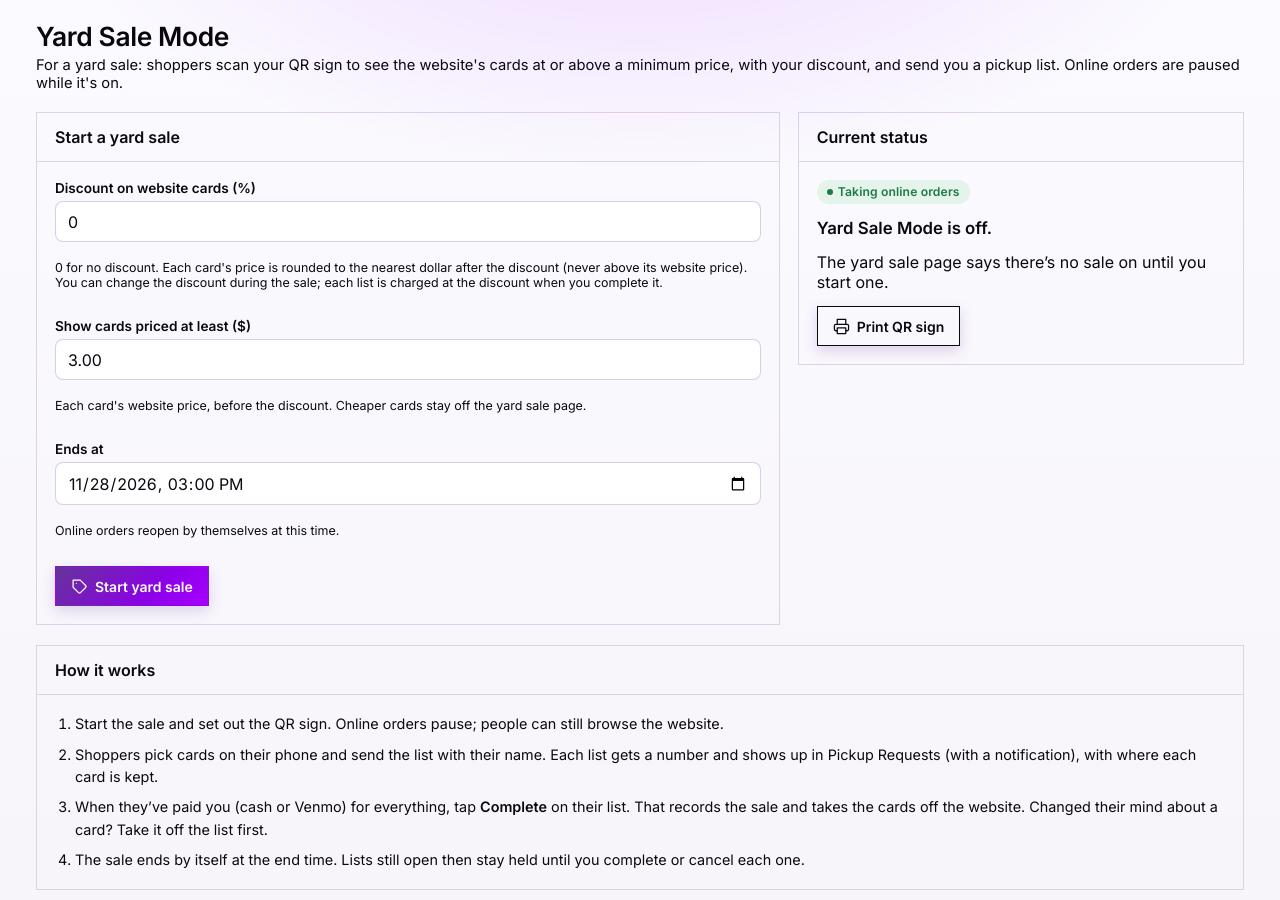
Scenario: the Yard Sale Mode page › starts a sale with the discount, minimum price and end time chosen
The width and height of the screenshot is (1280, 900).
Replace the text in the field labelled "Discount on website cards (%)" with "25". click: point(408, 222)
box: [55, 201, 761, 242]
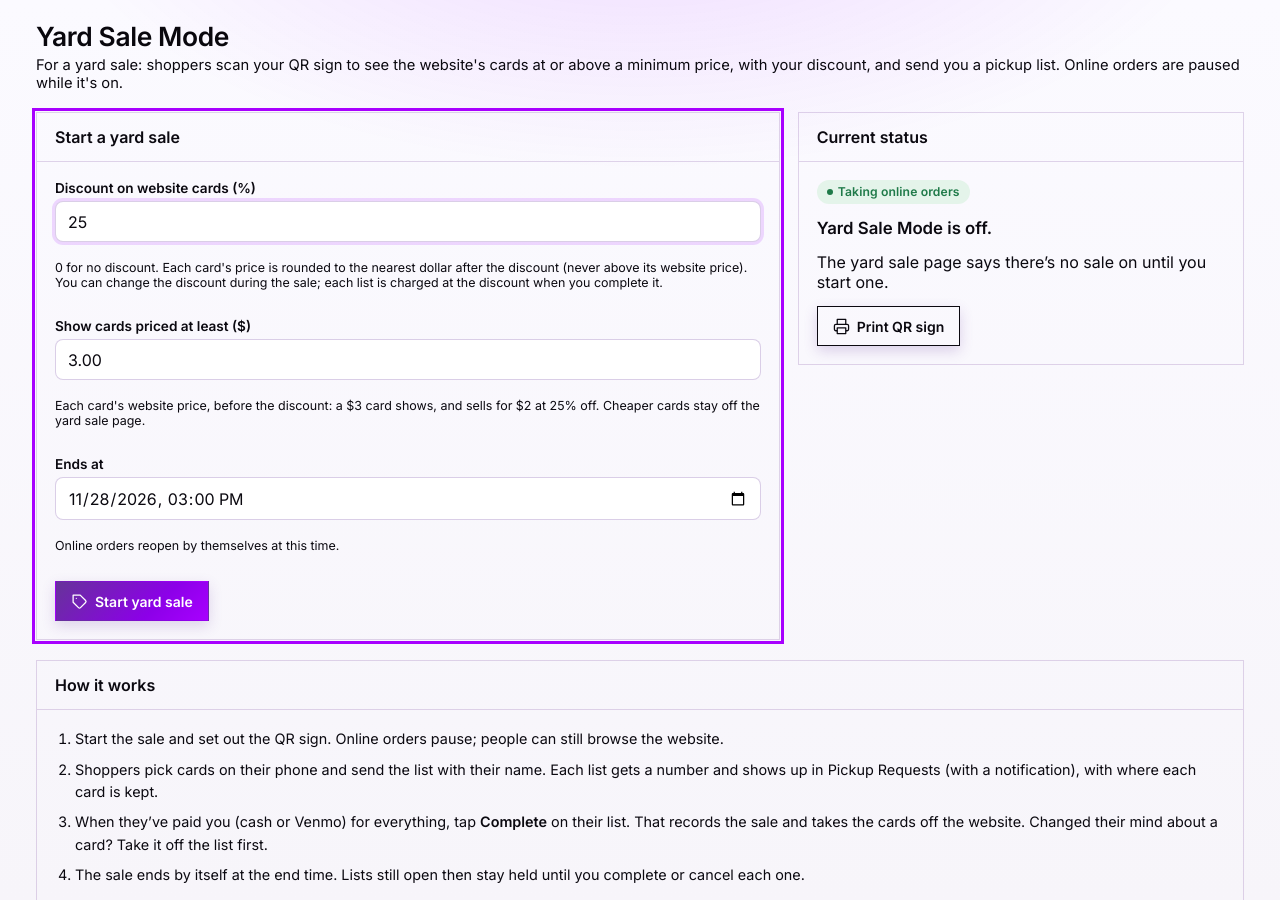
Replace the text in the field labelled "Show cards priced at least ($)" with "5". click: point(408, 360)
box: [55, 339, 761, 380]
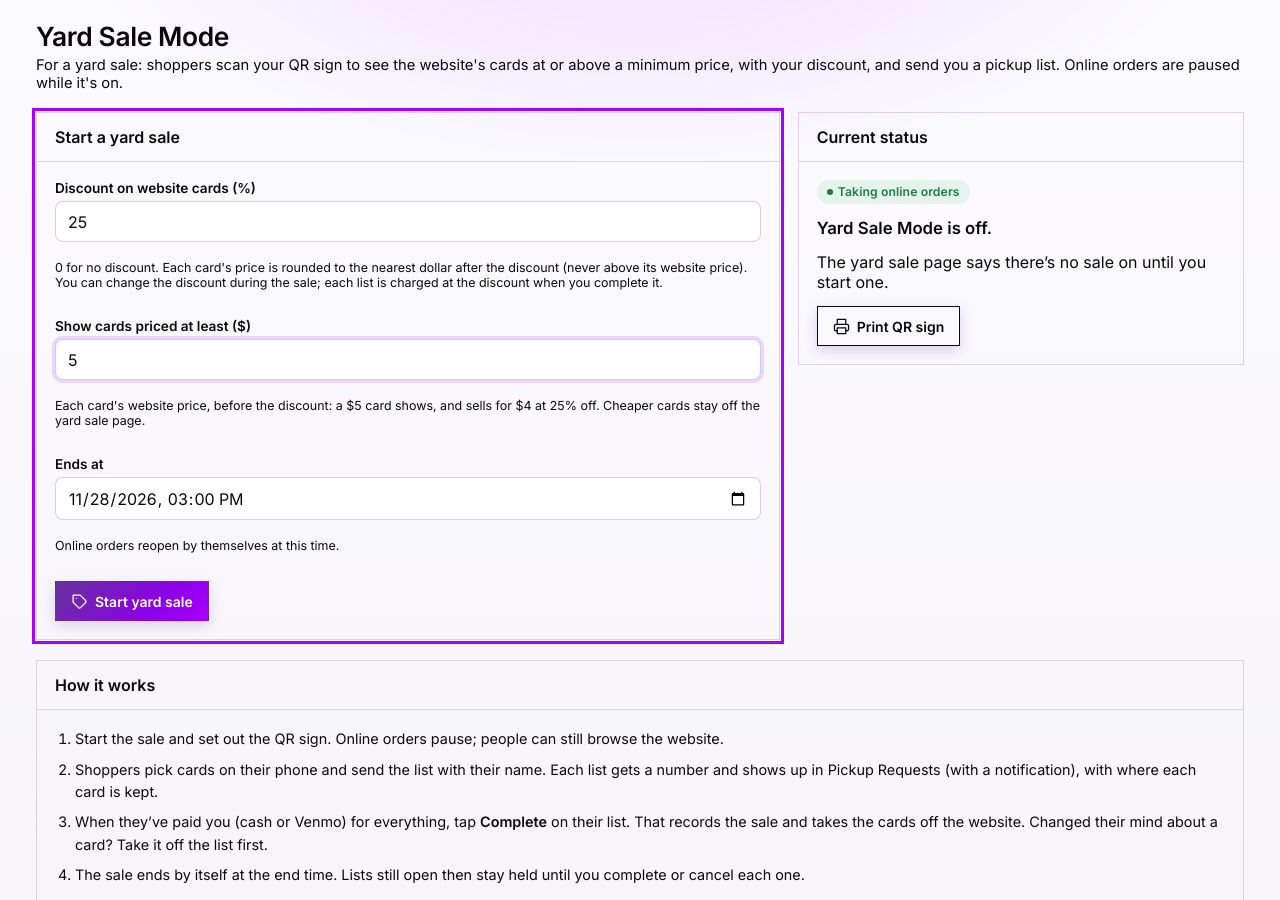
Click the button "Start yard sale". click: point(132, 601)
box: [55, 581, 209, 621]
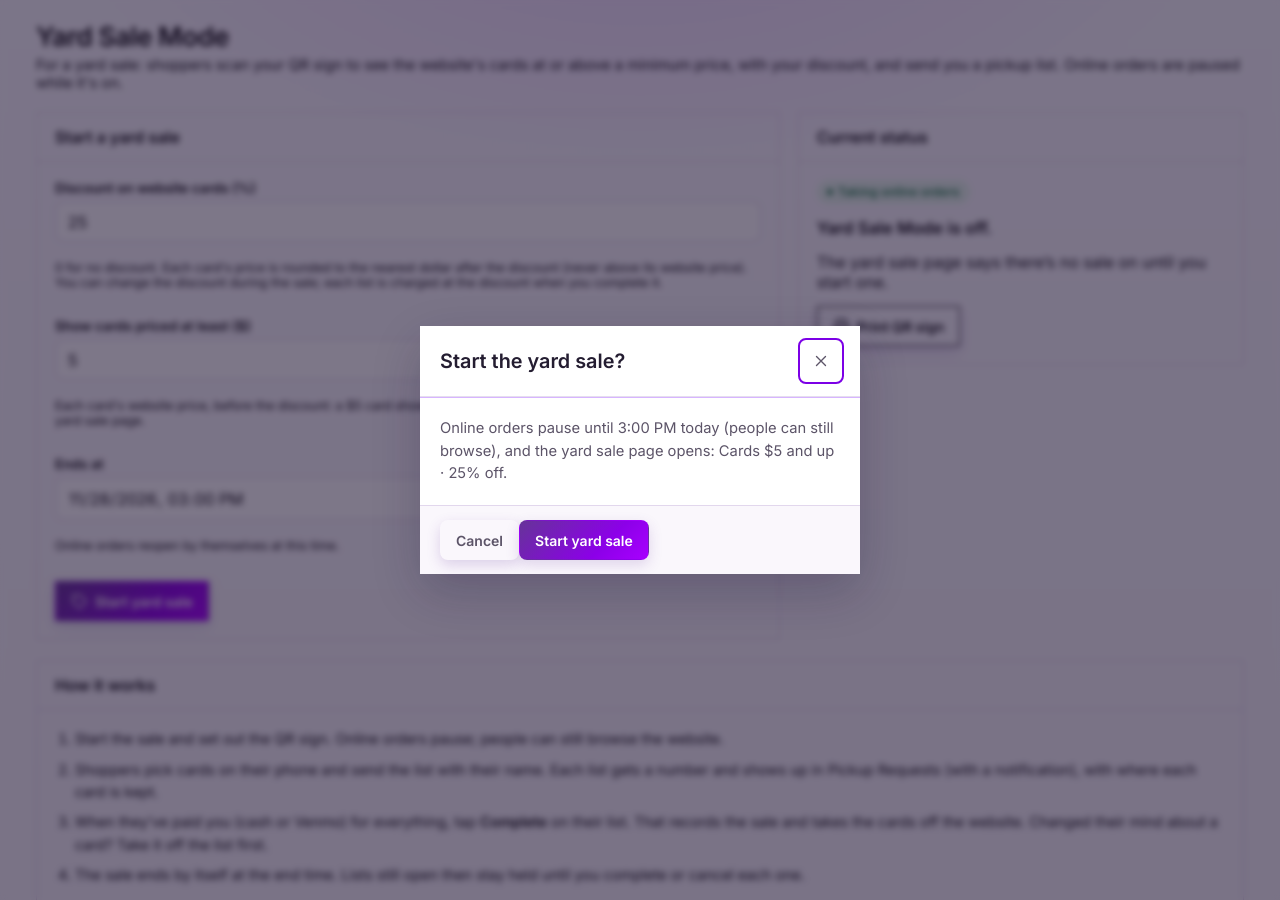
Expected: the dialog "Start the yard sale?" shows "Cards $5 and up · 25% off", [440, 419, 834, 482]
Click the button "Start yard sale". click: point(584, 540)
box: [519, 520, 649, 560]
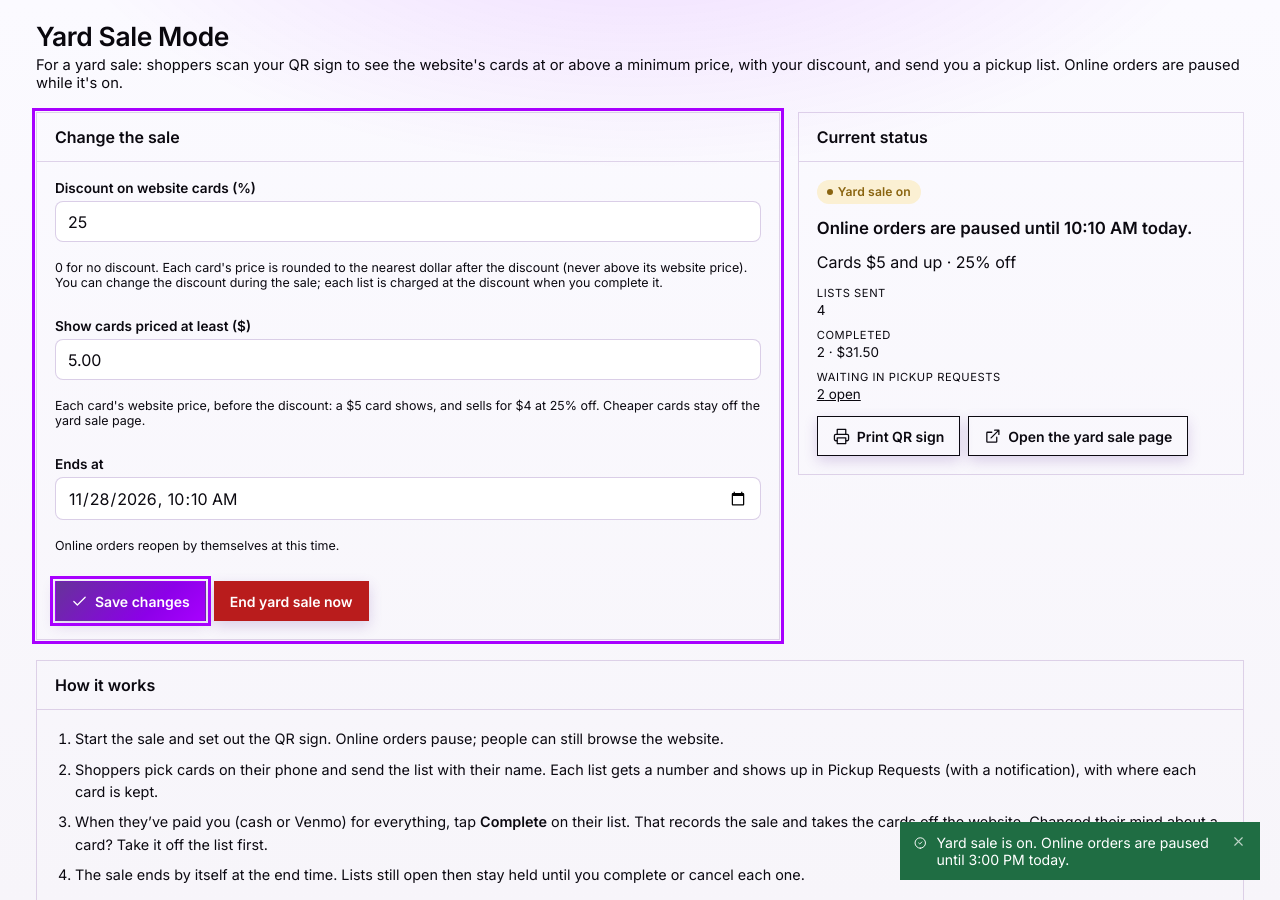
Expected: the text "Yard sale on" is shown, [817, 180, 921, 204]
Expected: the text "2 · $31.50" is shown, [817, 344, 879, 360]
